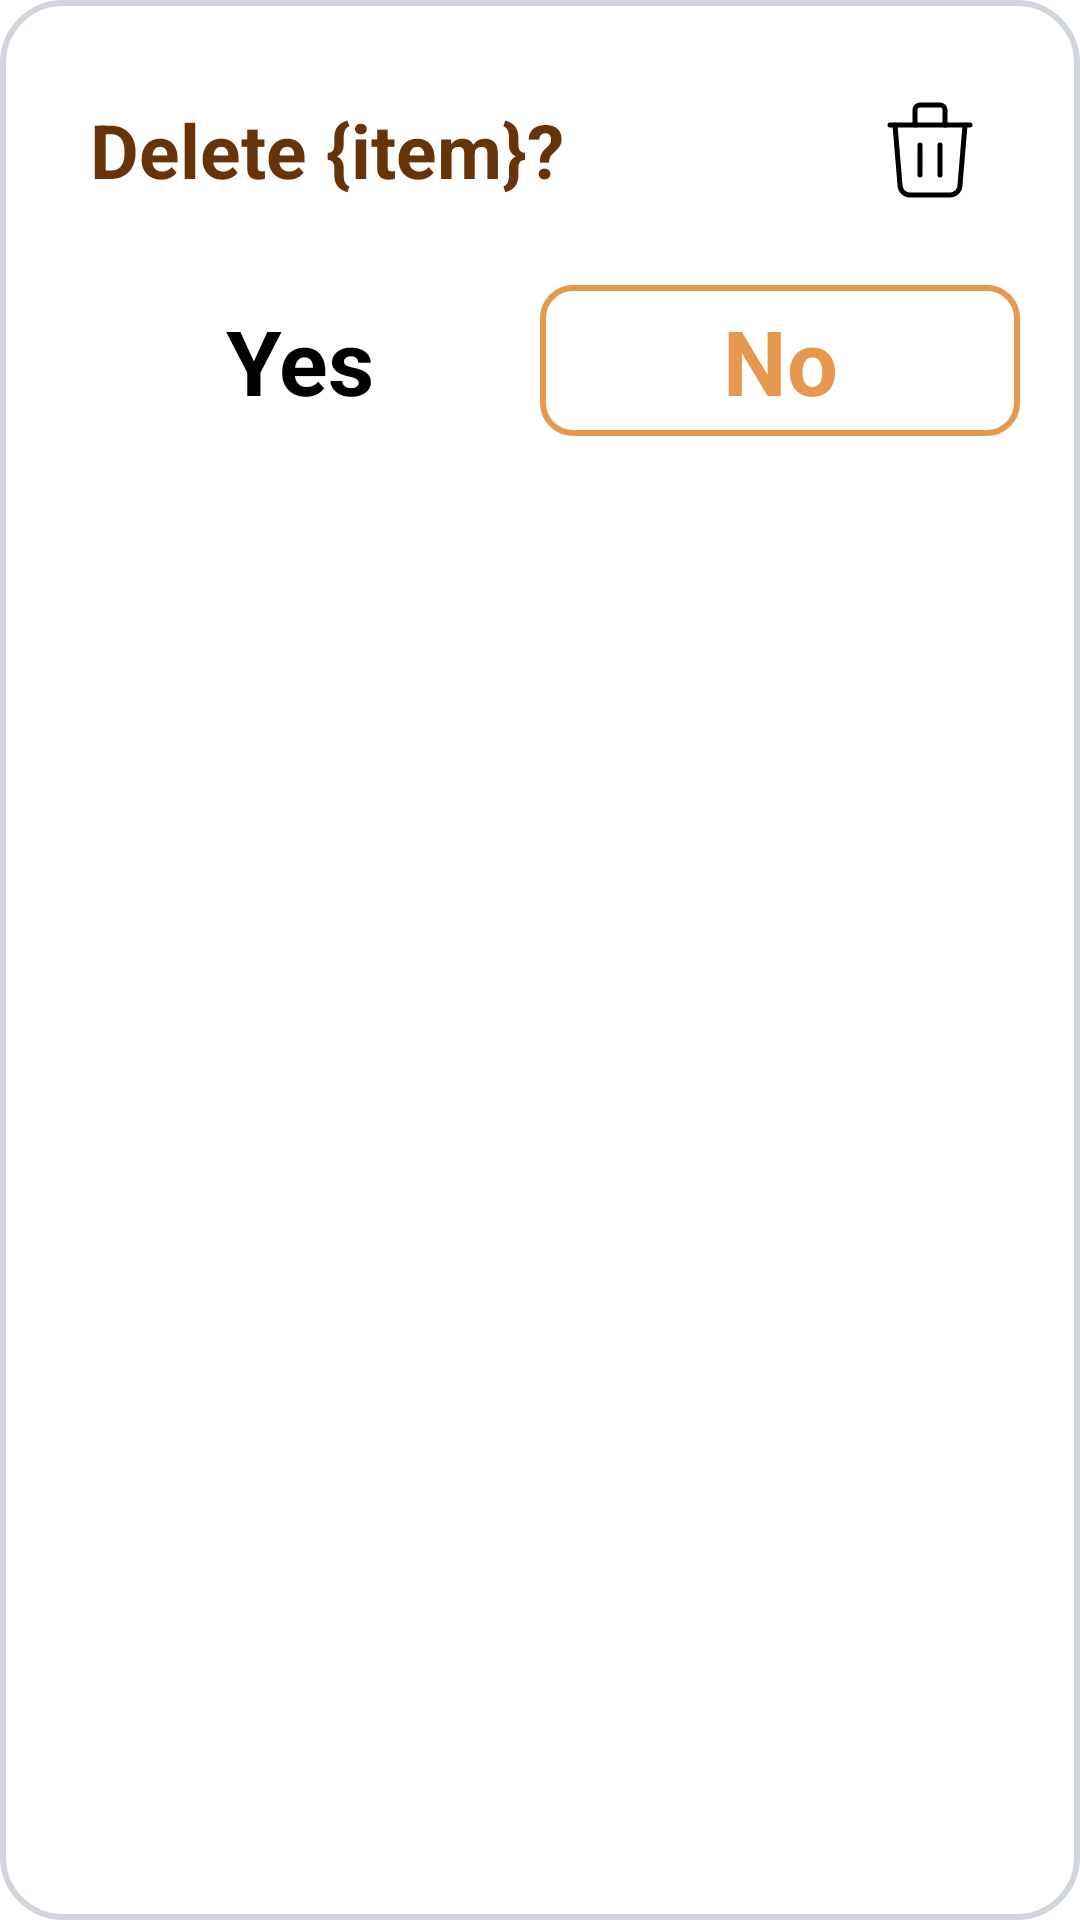

Where icons sit on this 1080w x 1920h app screen, as box(x1, y1, x2, y2):
trash: box(887, 102, 973, 198)
